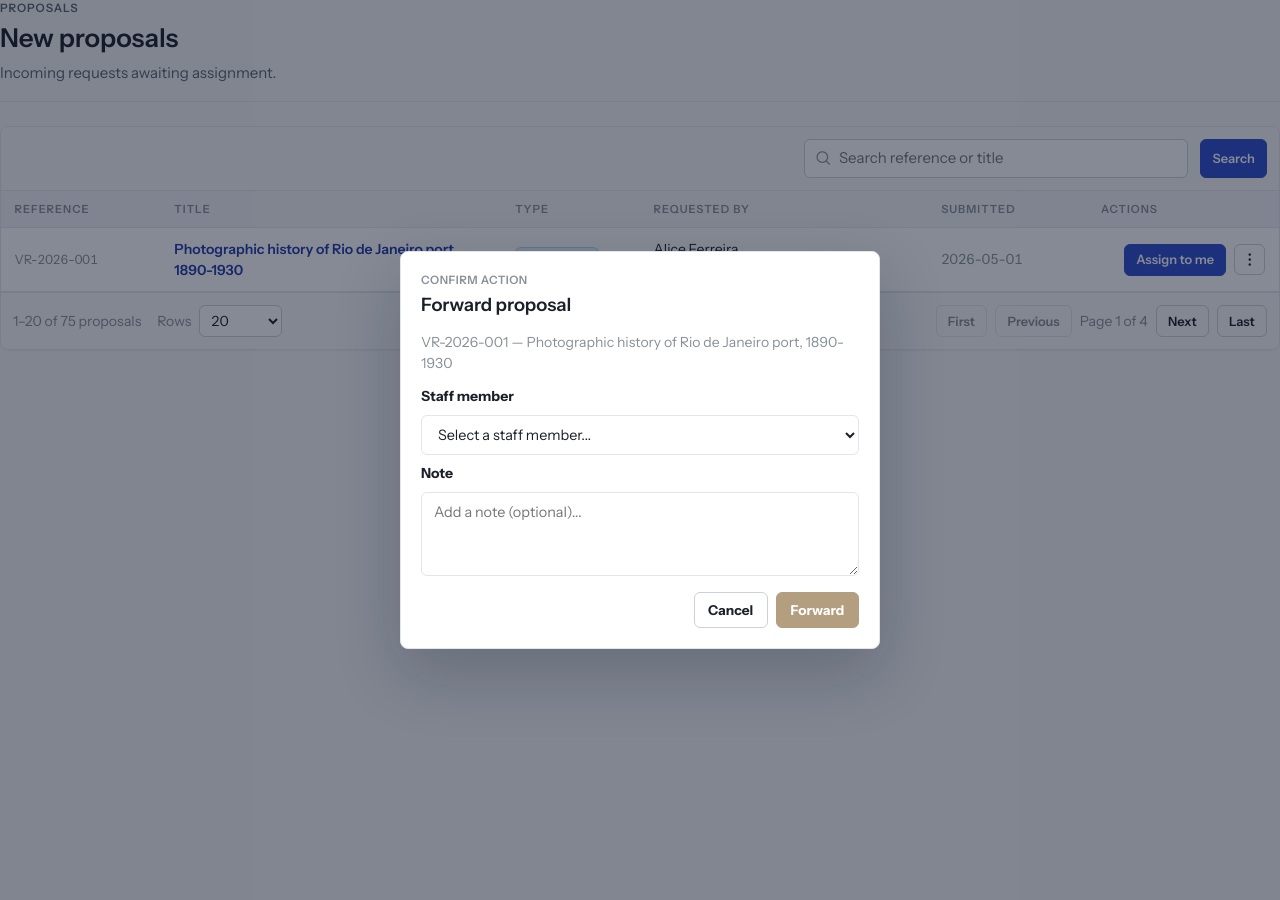
Test: ProposalsNewPageComponent › forwards a new proposal from the confirmation modal
The width and height of the screenshot is (1280, 900).
Check: the dialog is shown, box [400, 251, 880, 649]
Check: the dialog shows "VR-2026-001", box [421, 333, 844, 372]
Select "Bob Santos — Collections management" in the dropdown with id "forward-modal-target": (640, 435) [421, 415, 859, 455]
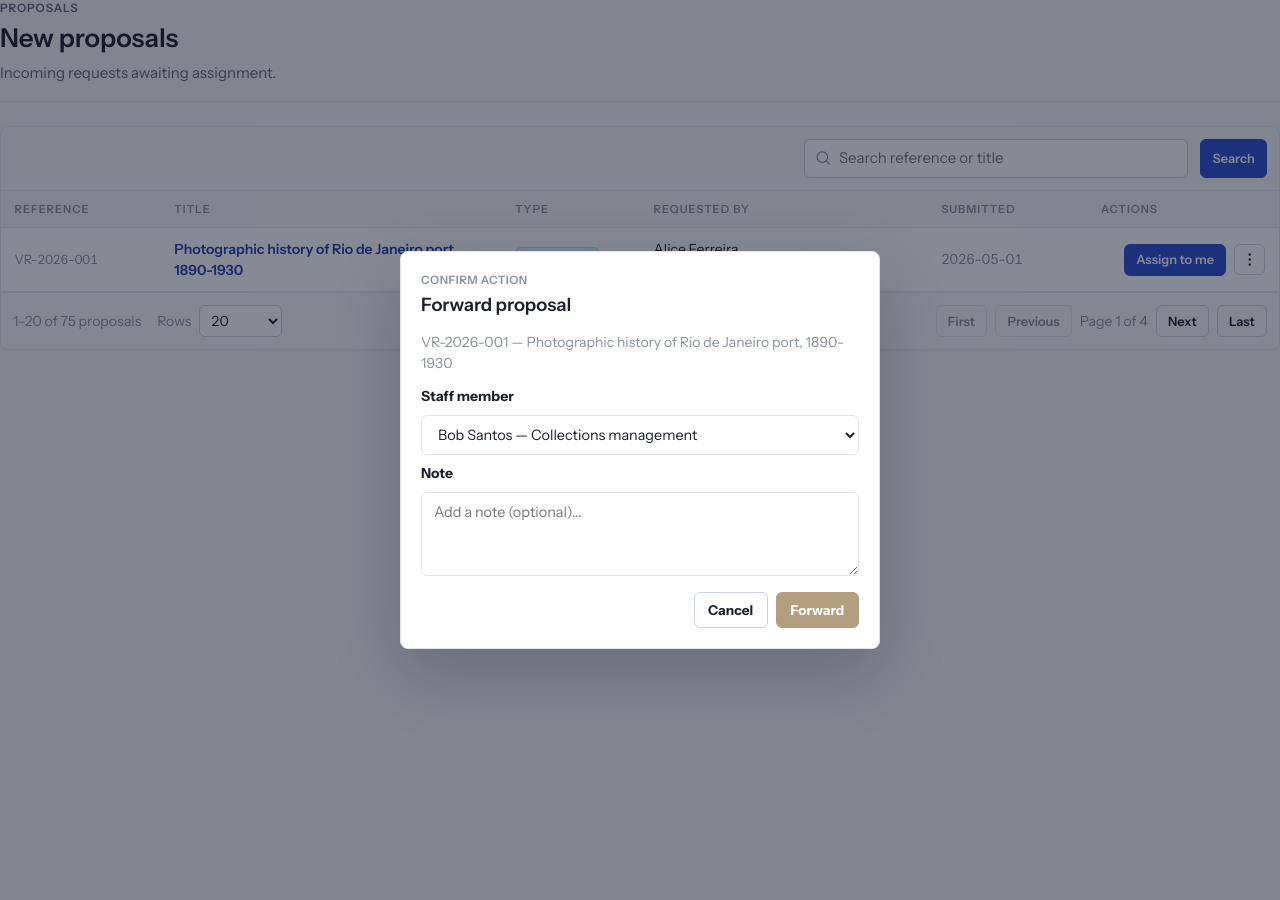
In the text box with id "forward-modal-note": (640, 534) [421, 492, 859, 576], type "Please review this incoming request."
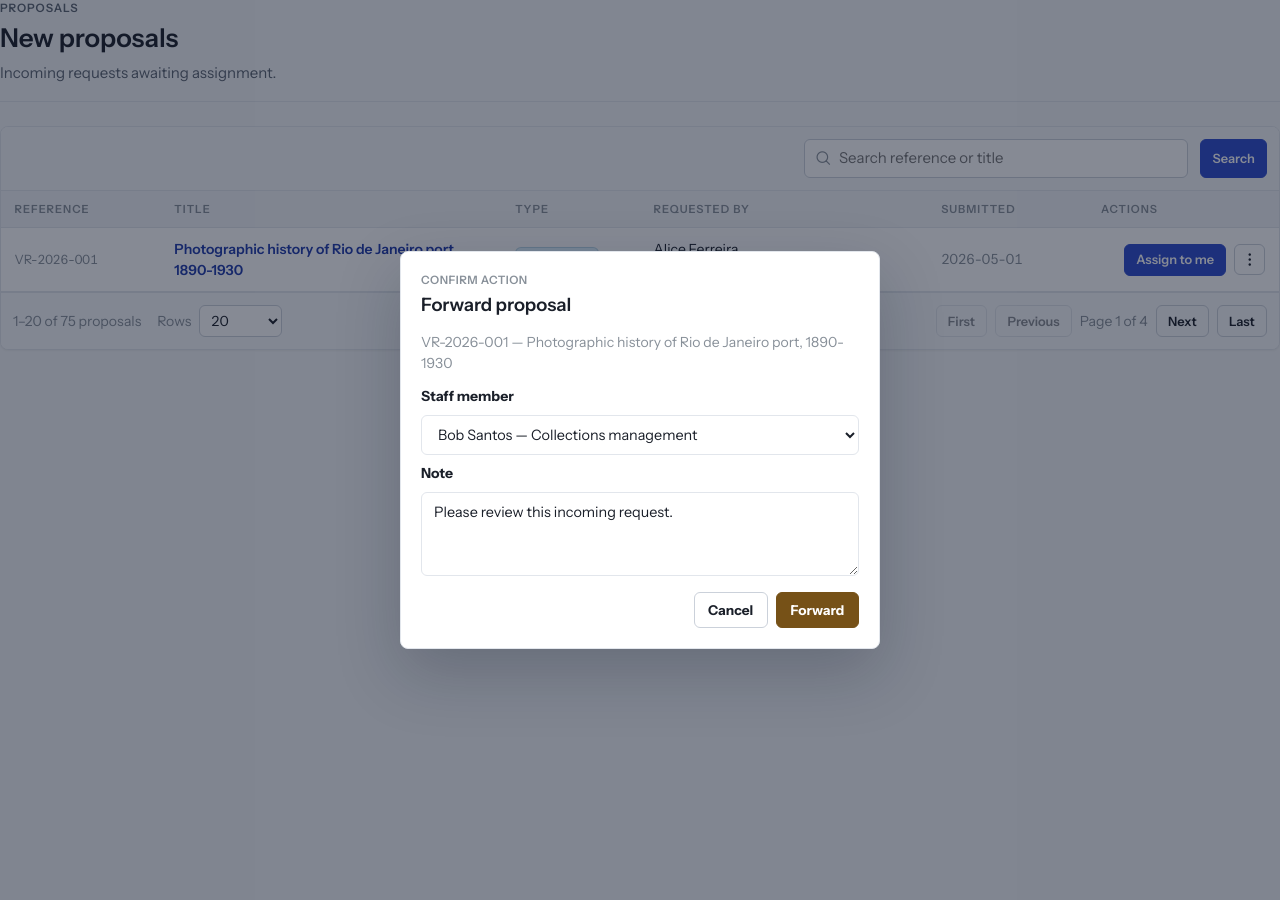
Check: the button "Forward" is enabled
Click the button "Forward": (817, 610) [776, 592, 859, 628]
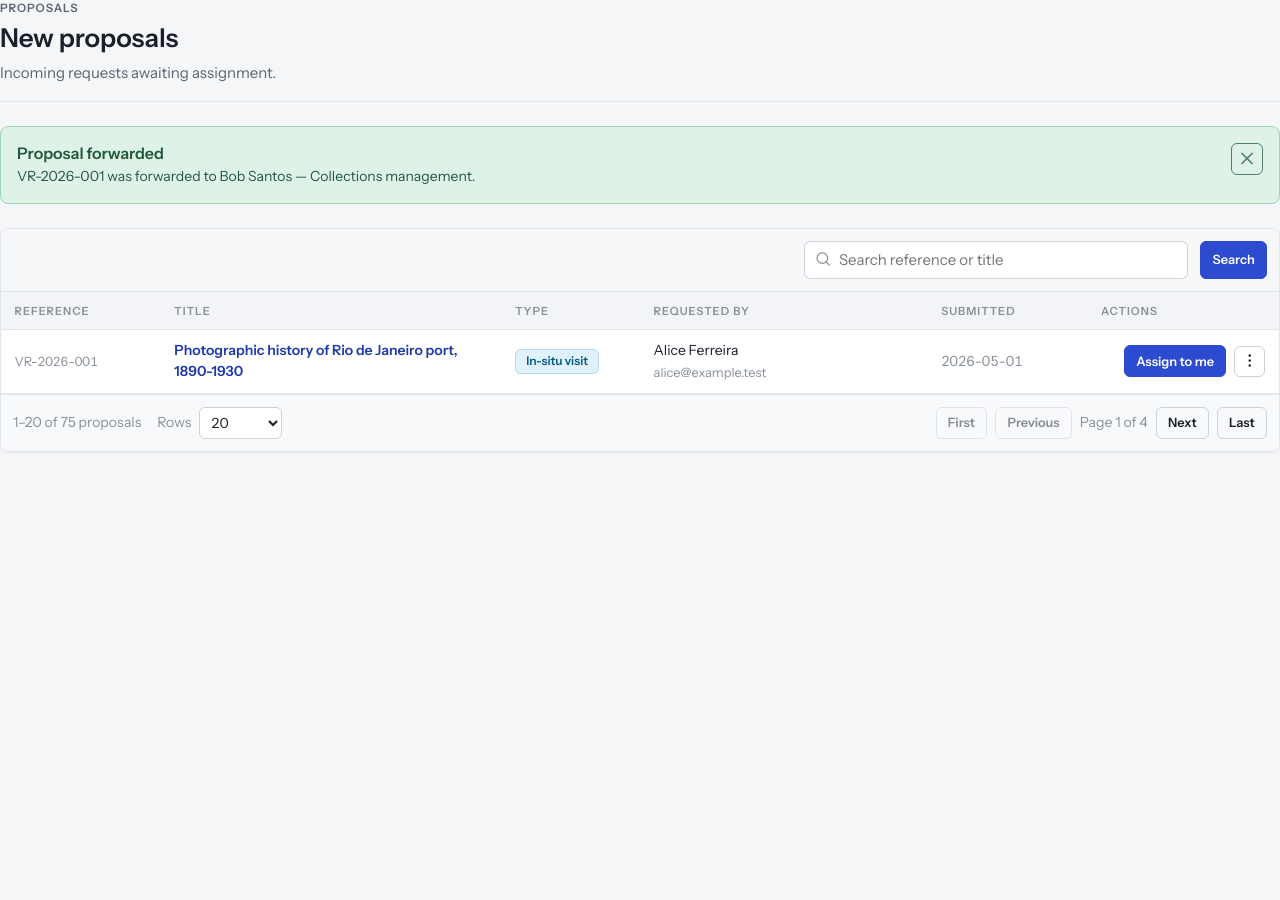
Check: the text "Proposal forwarded" is shown, box [17, 143, 164, 163]
Check: the text "VR-2026-001 was forwarded to Bob Santos" is shown, box [17, 167, 475, 185]
